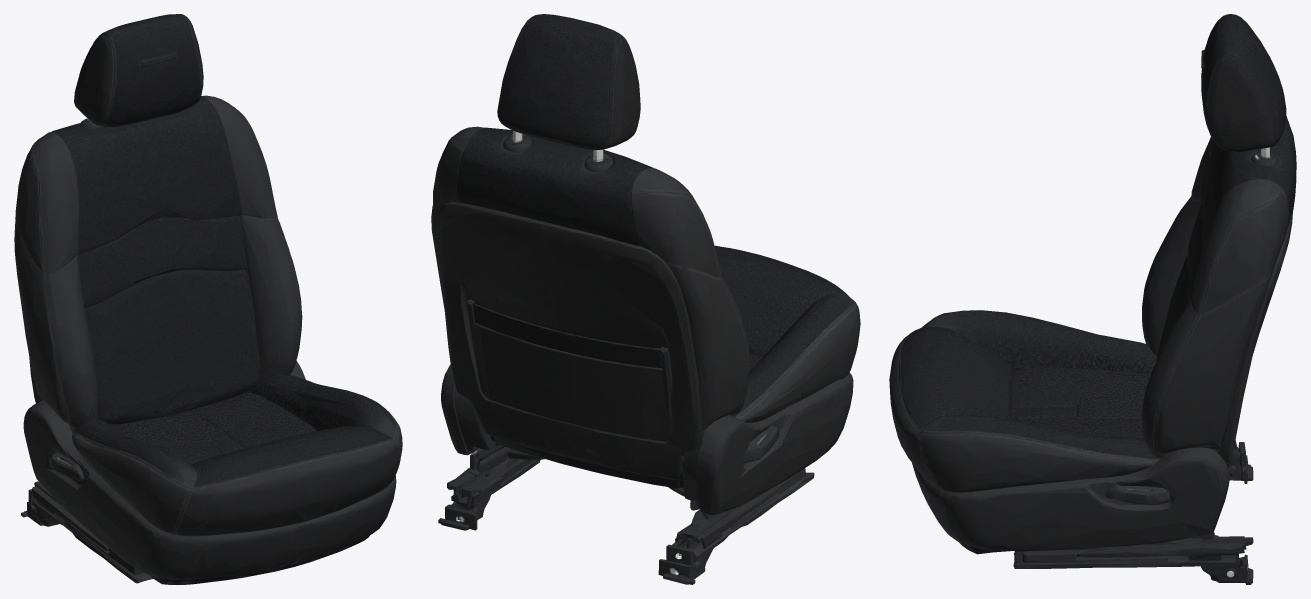
Rendered from remeshed-seat.glb.
The picture shows the model from 3 angles, left to right: view 1: azimuth 30°, elevation 25°; view 2: azimuth 150°, elevation 25°; view 3: azimuth 270°, elevation 25°; orthographic projection. The views are drawn at different scales.
Visible parts, largest first — view 1: output_unwrapped; view 2: output_unwrapped; view 3: output_unwrapped.
Boxes of the visible parts, <box> form: output_unwrapped: <box>14,14,402,584</box>; output_unwrapped: <box>431,14,860,584</box>; output_unwrapped: <box>889,14,1296,584</box>.
Size of the model in its own units: 1.1 by 1.9 by 1.41.
1 material, 1 textured.
